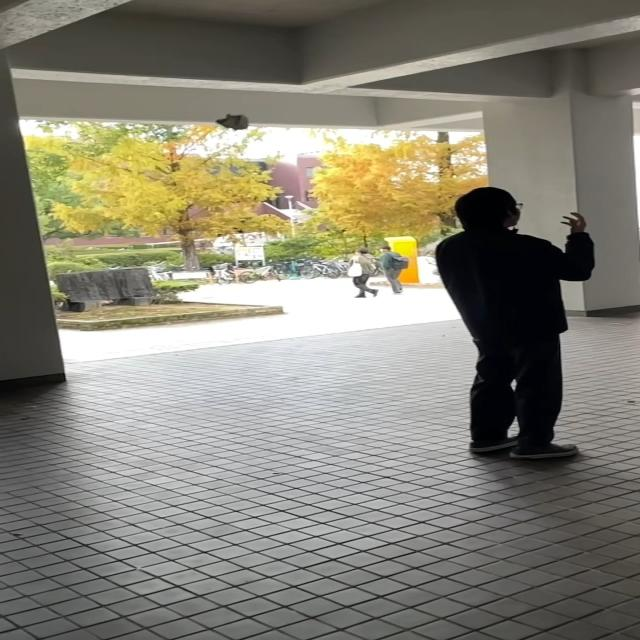paper: (219, 115, 252, 131)
